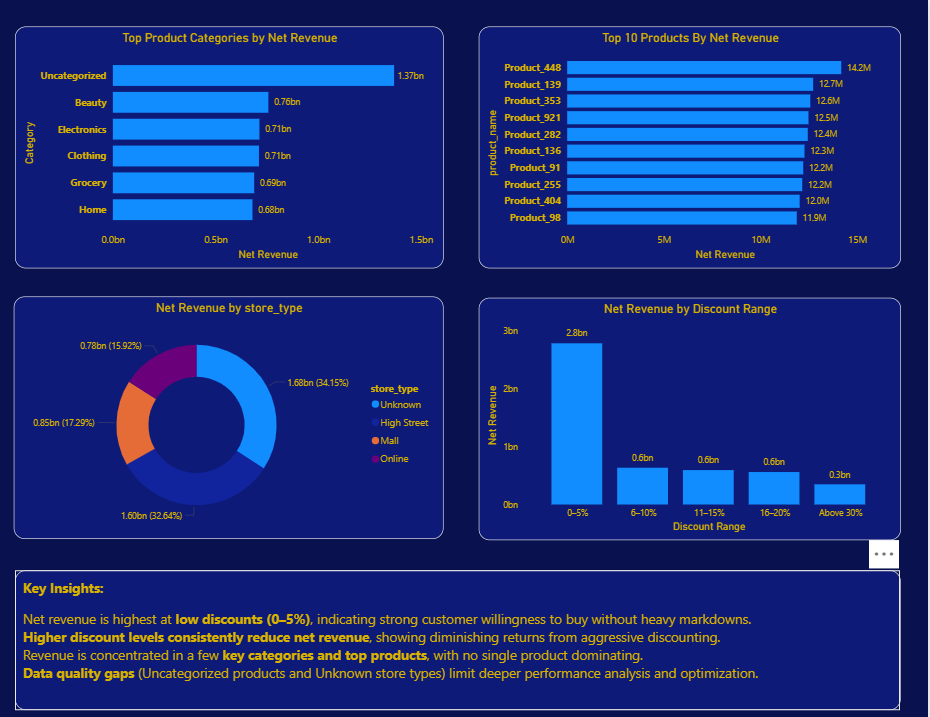

The dashboard page shown, as its layout file describes it:
{"tool":"powerbi","page":{"name":"Product and Store Performance Analysis","canvas":[1280,1000],"ordinal":2},"visuals":[{"type":"clusteredBarChart","title":"Top Product Categories by Net Revenue","fields":{"Category":["dim_products.category"],"Y":["_Measures.Net Revenue"]},"box":[20.3,37.7,591.3,333.3],"z":0},{"type":"clusteredBarChart","title":"Top 10 Products By Net Revenue","fields":{"Y":["_Measures.Net Revenue"],"Category":["dim_products.product_name"]},"box":[660.9,37.7,582.6,333.3],"z":1000},{"type":"donutChart","fields":{"Category":["dim_stores.store_type"],"Y":["_Measures.Net Revenue"]},"box":[18.8,410.1,592.8,334.8],"z":2000},{"type":"columnChart","fields":{"Y":["_Measures.Net Revenue"],"Category":["fact_sales.Discount Range"]},"box":[660.9,411.6,582.6,334.8],"z":3000},{"type":"textbox","box":[20.3,788.4,1221.7,192.8],"z":4000}]}

Visuals, with their boxes in screenshot pixels (x1, y1, x2, y2), scaled from the page's 1280x1000 canvas onto the 930x717 screenshot:
"Top Product Categories by Net Revenue" clusteredBarChart: crop(15, 27, 444, 266)
"Top 10 Products By Net Revenue" clusteredBarChart: crop(480, 27, 903, 266)
donutChart - dim_stores.store_type x _Measures.Net Revenue: crop(14, 294, 444, 534)
columnChart - _Measures.Net Revenue x fact_sales.Discount Range: crop(480, 295, 903, 535)
textbox: crop(15, 565, 902, 704)
